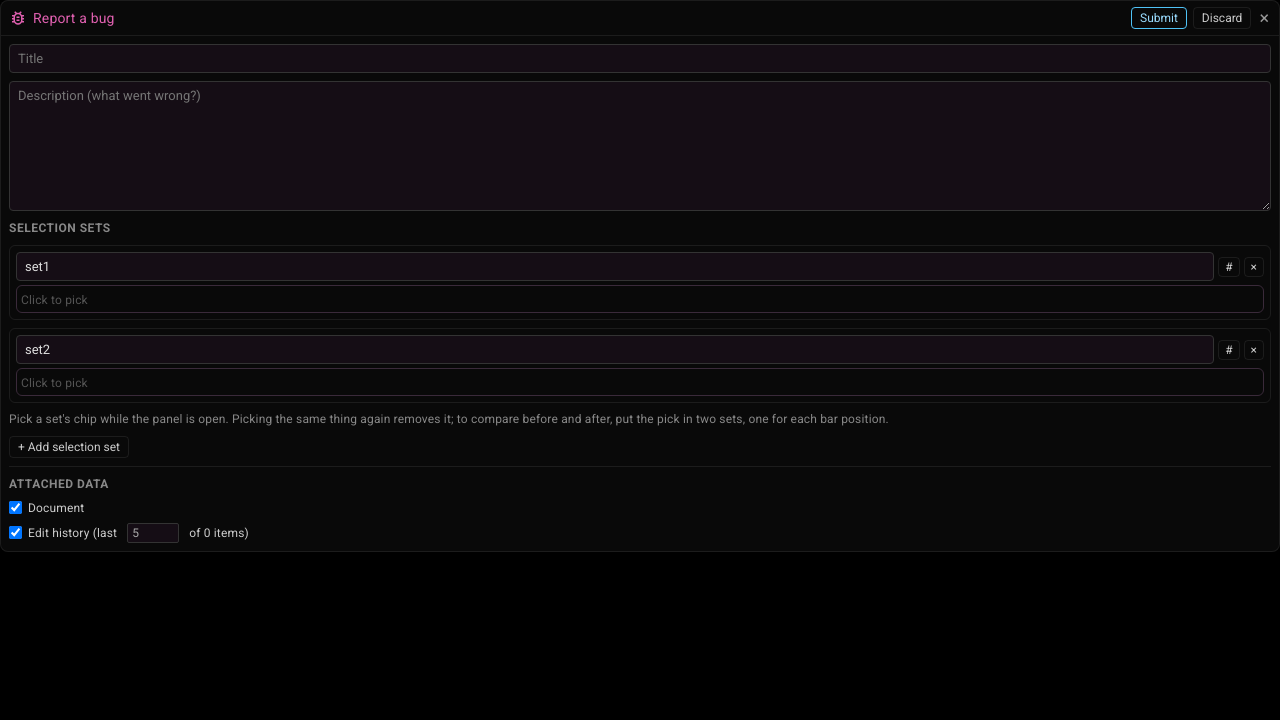
Test case: BugReportPanel › shows a field refusal for a duplicate set name
Replace the text in the 2nd field named "Selection set name" with "set1" at point(615, 350), box [16, 335, 1214, 364]
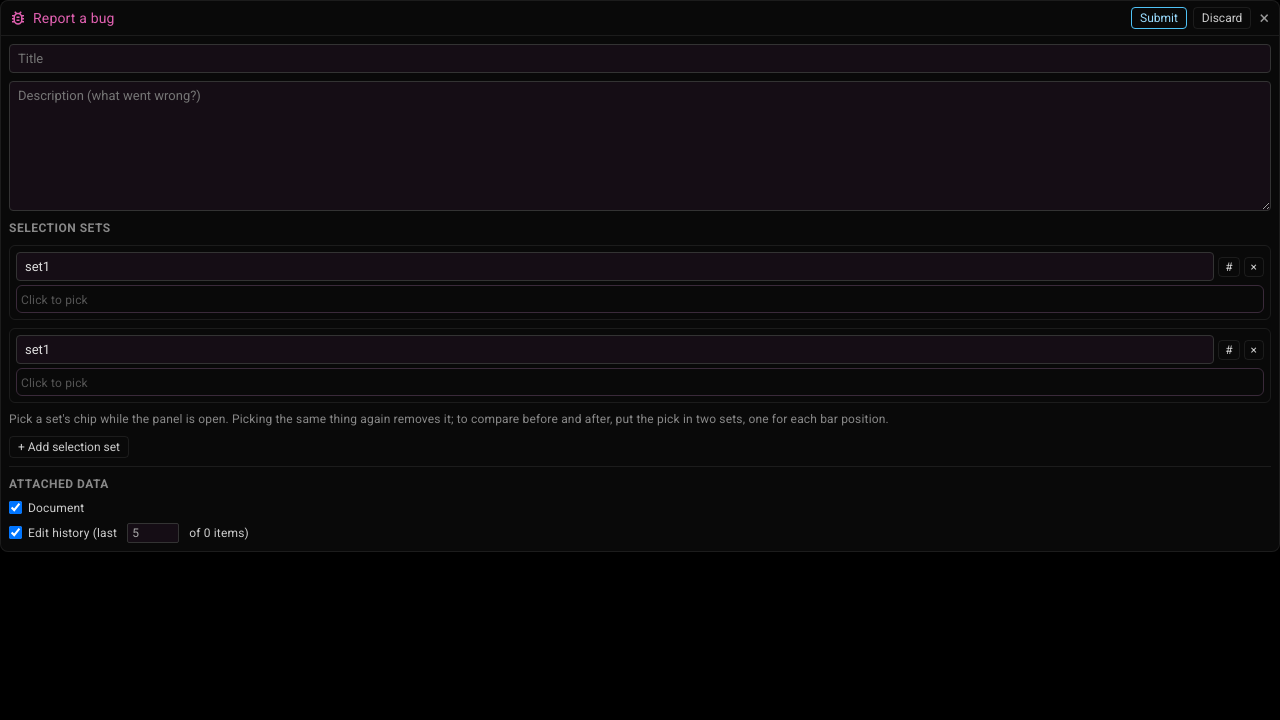
Leave the 2nd field named "Selection set name", box [16, 335, 1214, 364]
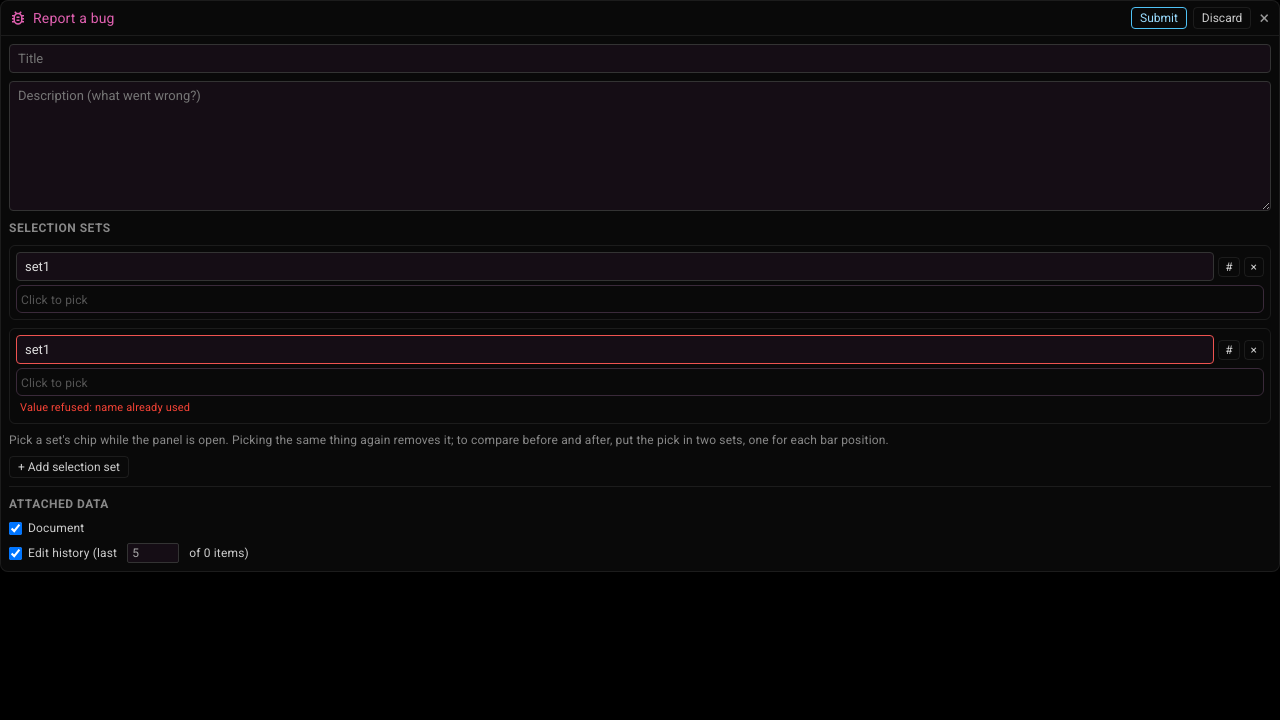
expect the text "Value refused: name already used" is shown: met, box [20, 401, 190, 414]
